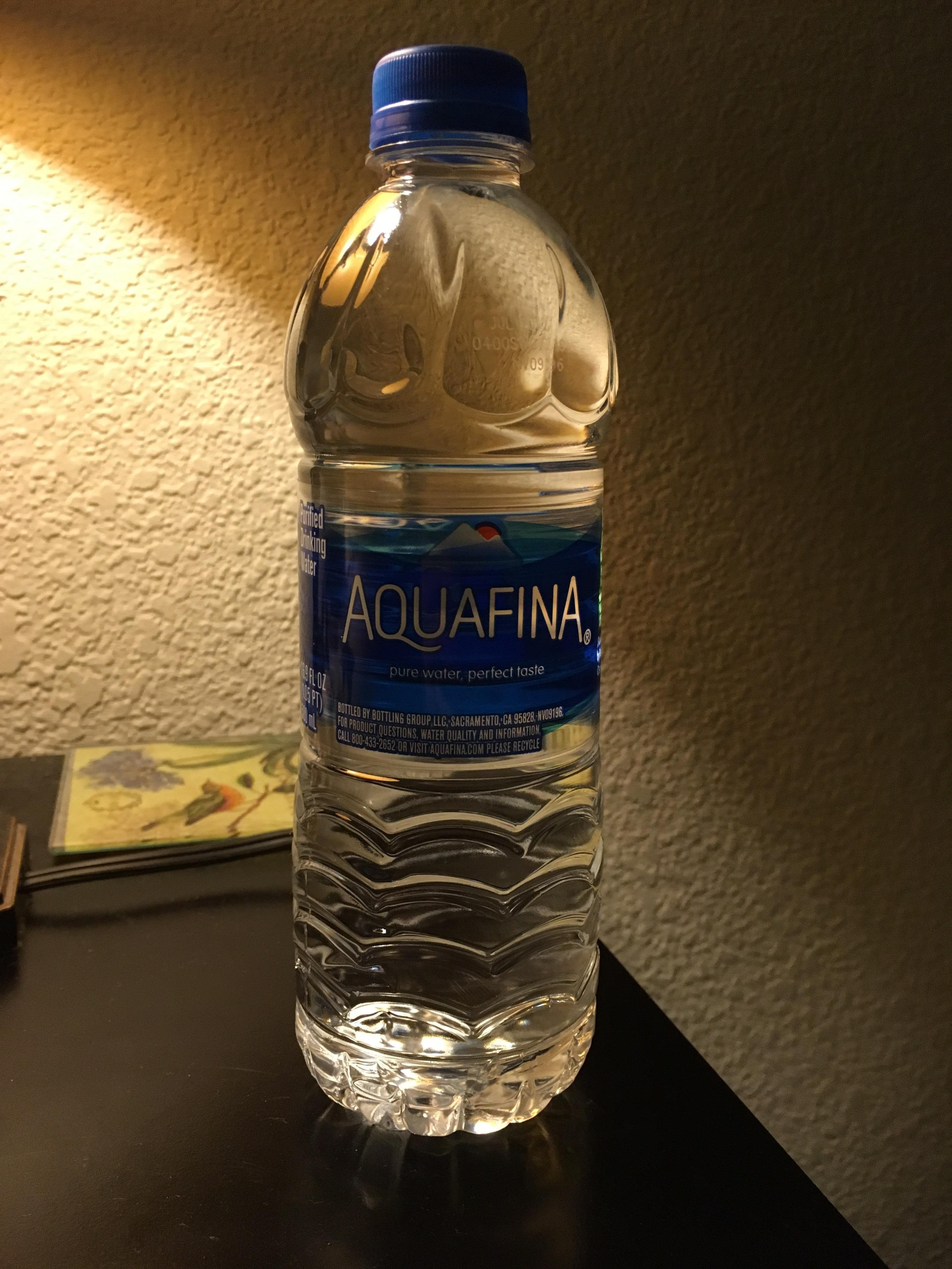bottle-plastic: (281, 38, 619, 1139)
